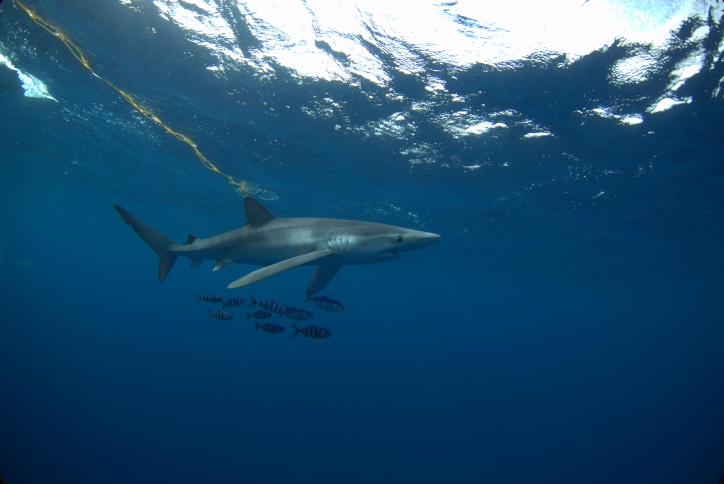Azul: (102, 188, 480, 339)
